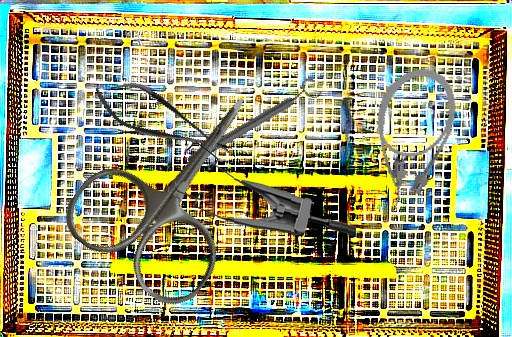Cannula: (348, 57, 469, 219)
Fixation Ring: (182, 75, 324, 171)
Iris Scissors: (54, 53, 307, 317)
Micro Scissor: (86, 66, 240, 175)
Speculum: (167, 139, 358, 239)
